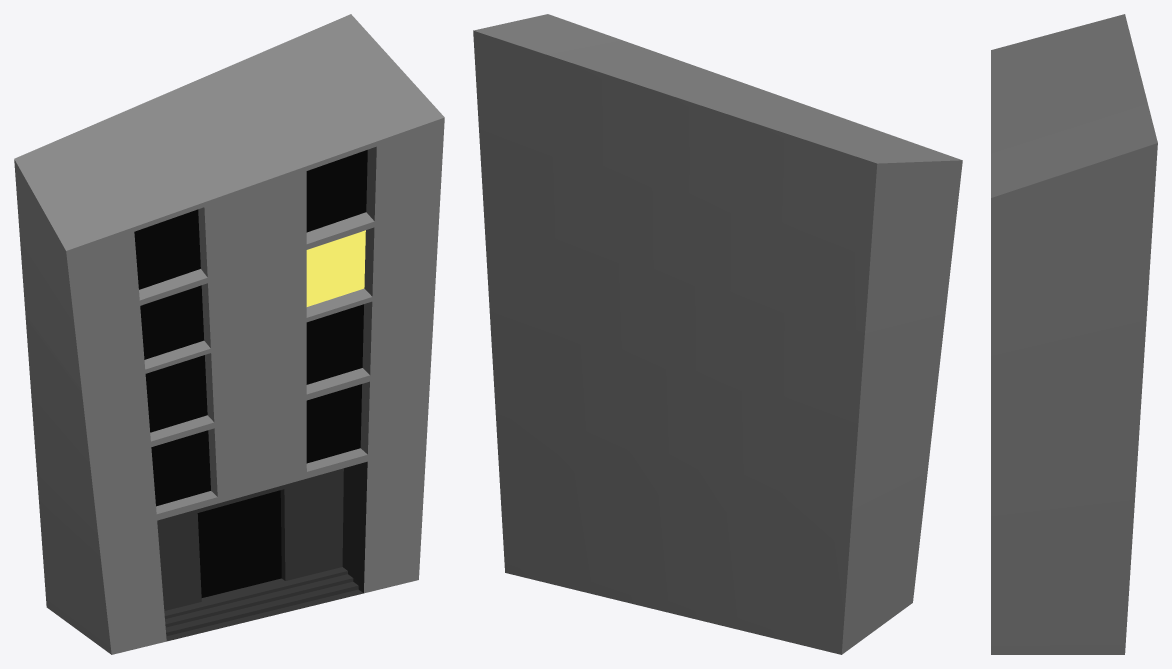
File: Building03.fbx
The picture shows the model from 3 angles, left to right: view 1: azimuth 30°, elevation 25°; view 2: azimuth 150°, elevation 25°; view 3: azimuth 270°, elevation 25°; orthographic projection. The views are drawn at different scales.
Visible parts, largest first — view 1: Building03; view 2: Building03; view 3: Building03.
Part boxes in pixels (left/top/right/bottom): Building03: left=14, top=14, right=444, bottom=654; Building03: left=473, top=14, right=962, bottom=654; Building03: left=991, top=14, right=1157, bottom=654.
Bounding box in the file's own units: 814 × 1035 × 302.
2 materials, 1 textured.
